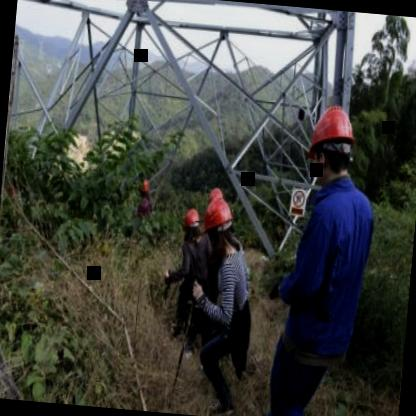helmet: (300, 96, 364, 194), (204, 196, 235, 256), (183, 206, 201, 240)
